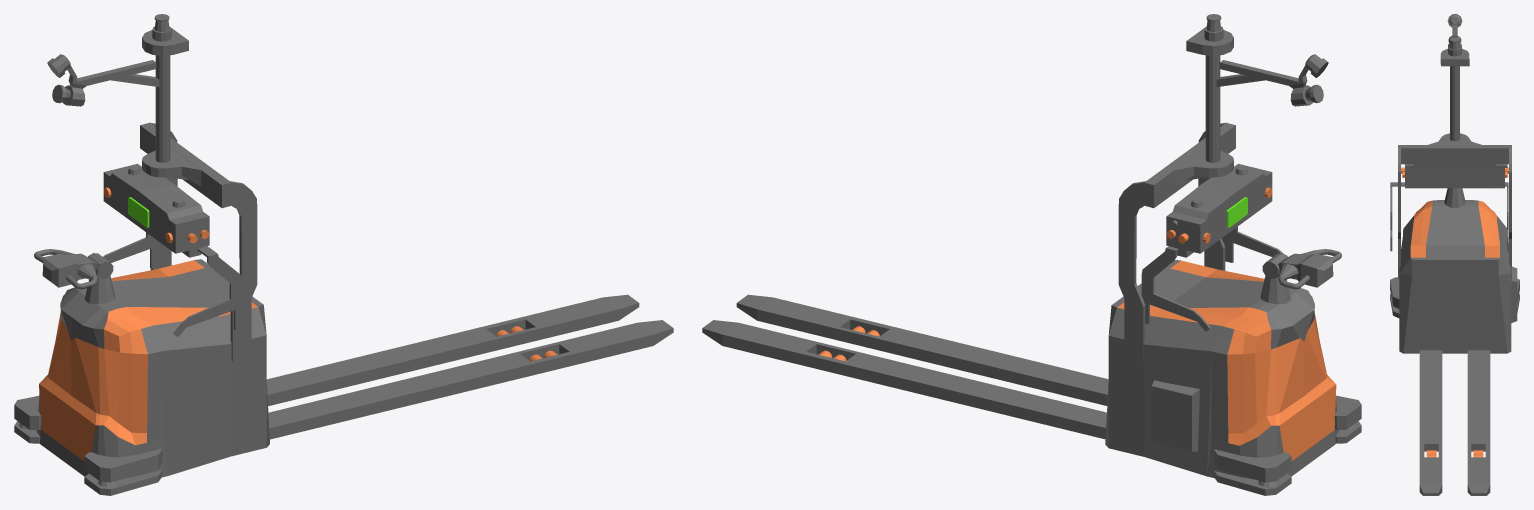
File: LAE low poly.fbx
The picture shows the model from 3 angles, left to right: view 1: azimuth 30°, elevation 25°; view 2: azimuth 150°, elevation 25°; view 3: azimuth 270°, elevation 25°; orthographic projection. The views are drawn at different scales.
Parts seen in each view (by area): view 1: mainbody, fork, topgrame, controlbox, controlframe, sensor.001, sensortop, Cube.001, sensor, Cube, Cube.003, Cylinder.002; view 2: mainbody, fork, topgrame, controlbox, chargepad, sensortop, controlframe, sensor.001, Cube.001, sensor, Cube, Cube.003 (+1 smaller); view 3: mainbody, fork, topgrame, controlbox, sensortop, controlframe, chargepad, Cylinder.003, sensor.001, Cube, cone.001, Cylinder.
Part boxes in pixels (<box>): mainbody: <box>36,259,269,477</box>; fork: <box>266,294,673,439</box>; topgrame: <box>140,122,257,361</box>; controlbox: <box>103,163,209,257</box>; controlframe: <box>103,232,247,337</box>; sensor.001: <box>14,395,162,482</box>; sensortop: <box>142,28,188,162</box>; Cube.001: <box>67,60,159,88</box>; sensor: <box>14,421,162,495</box>; Cube: <box>142,148,201,186</box>; Cube.003: <box>42,253,97,287</box>; Cylinder.002: <box>34,249,97,289</box>; mainbody: <box>1105,260,1338,478</box>; fork: <box>702,294,1108,439</box>; topgrame: <box>1118,122,1235,361</box>; controlbox: <box>1166,163,1272,257</box>; chargepad: <box>1151,380,1199,451</box>; sensortop: <box>1186,28,1233,162</box>; controlframe: <box>1141,226,1283,331</box>; sensor.001: <box>1213,395,1361,482</box>; Cube.001: <box>1216,60,1308,88</box>; sensor: <box>1214,421,1361,495</box>; Cube: <box>1174,148,1233,186</box>; Cube.003: <box>1278,253,1333,287</box>; mainbody: <box>1399,200,1511,353</box>; fork: <box>1419,350,1490,495</box>; topgrame: <box>1398,145,1511,279</box>; controlbox: <box>1405,164,1504,188</box>; sensortop: <box>1440,48,1469,141</box>; controlframe: <box>1390,182,1508,251</box>; chargepad: <box>1511,266,1517,322</box>; Cylinder.003: <box>1444,188,1465,207</box>; sensor.001: <box>1390,277,1519,308</box>; Cube: <box>1428,133,1481,144</box>; cone.001: <box>1448,37,1461,56</box>; Cylinder: <box>1447,14,1462,27</box>.
Bounding box in the file's own units: 345 × 234 × 92.4.
